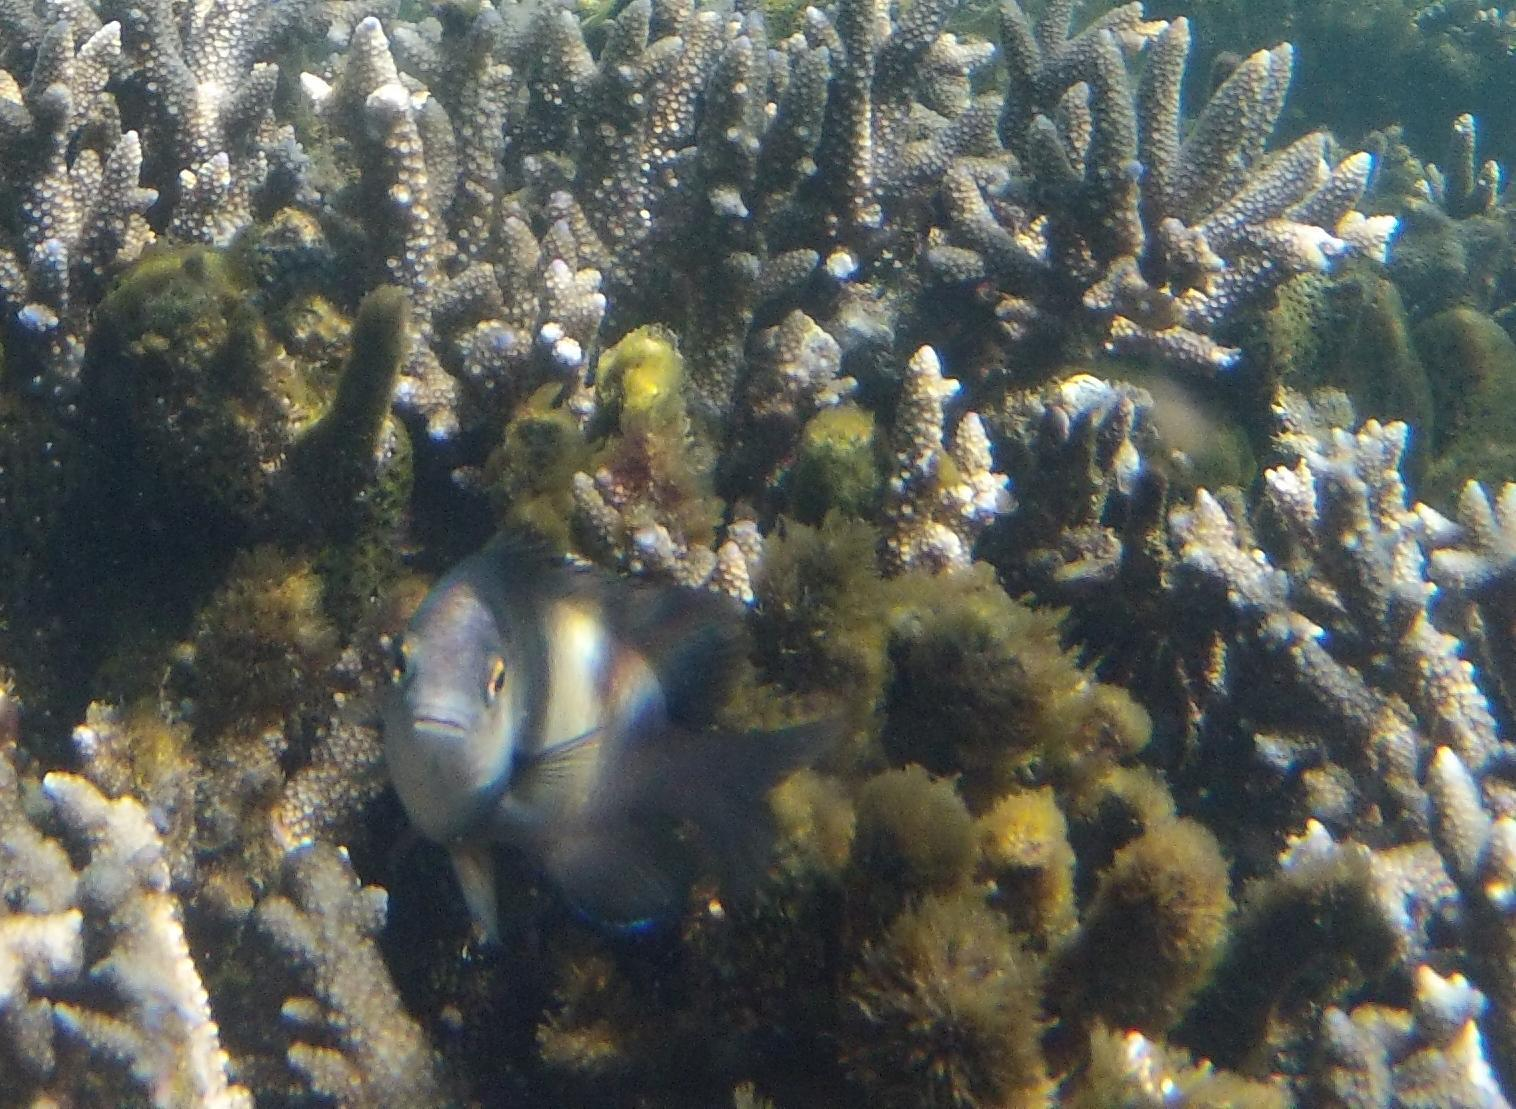Fish: (375, 509, 867, 991)
